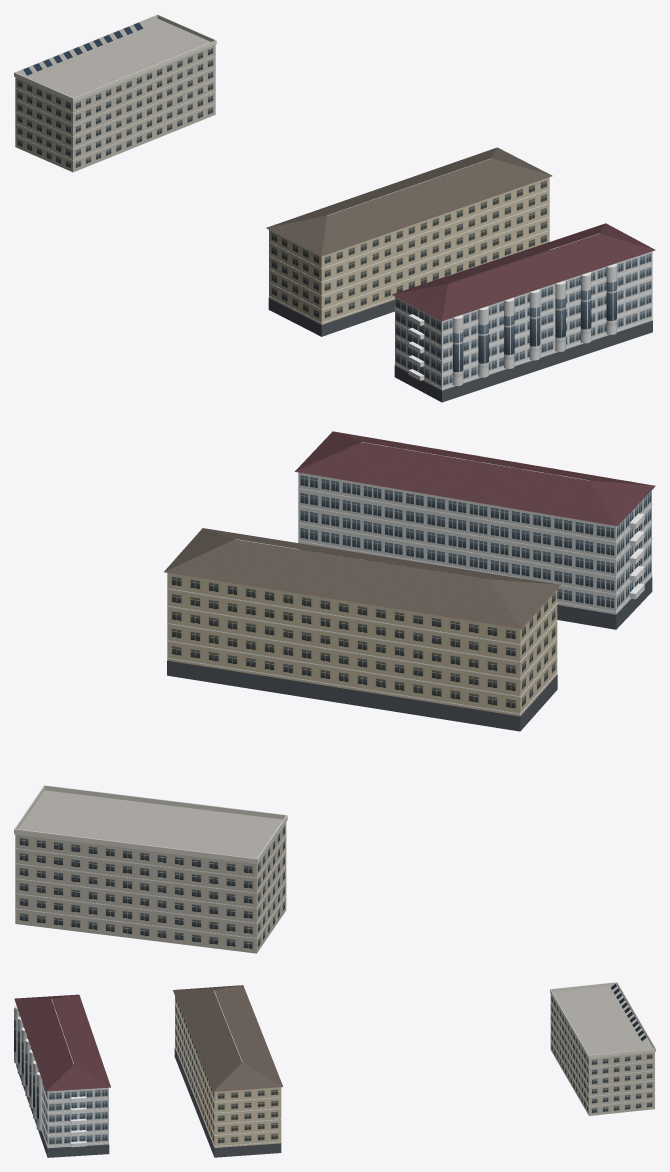
Rendered from dorm_dongyuan_i1.glb.
The picture shows the model from 3 angles, top to bottom: view 1: azimuth 30°, elevation 25°; view 2: azimuth 150°, elevation 25°; view 3: azimuth 270°, elevation 25°; orthographic projection. The views are drawn at different scales.
Visible parts, largest first — view 1: 862952685, 860503921, 1425305080; view 2: 862952685, 860503921, 1425305080; view 3: 862952685, 860503921, 1425305080.
Boxes of the visible parts, bbox=[...] form: 862952685: bbox=[266, 147, 552, 336]; 860503921: bbox=[392, 223, 655, 402]; 1425305080: bbox=[14, 14, 216, 172]; 862952685: bbox=[164, 528, 560, 731]; 860503921: bbox=[295, 431, 655, 629]; 1425305080: bbox=[14, 785, 287, 953]; 862952685: bbox=[173, 985, 283, 1157]; 860503921: bbox=[14, 994, 110, 1157]; 1425305080: bbox=[550, 982, 655, 1115].
Size of the model in its own units: 77.42 by 24.53 by 181.
6 materials, 4 textured.
